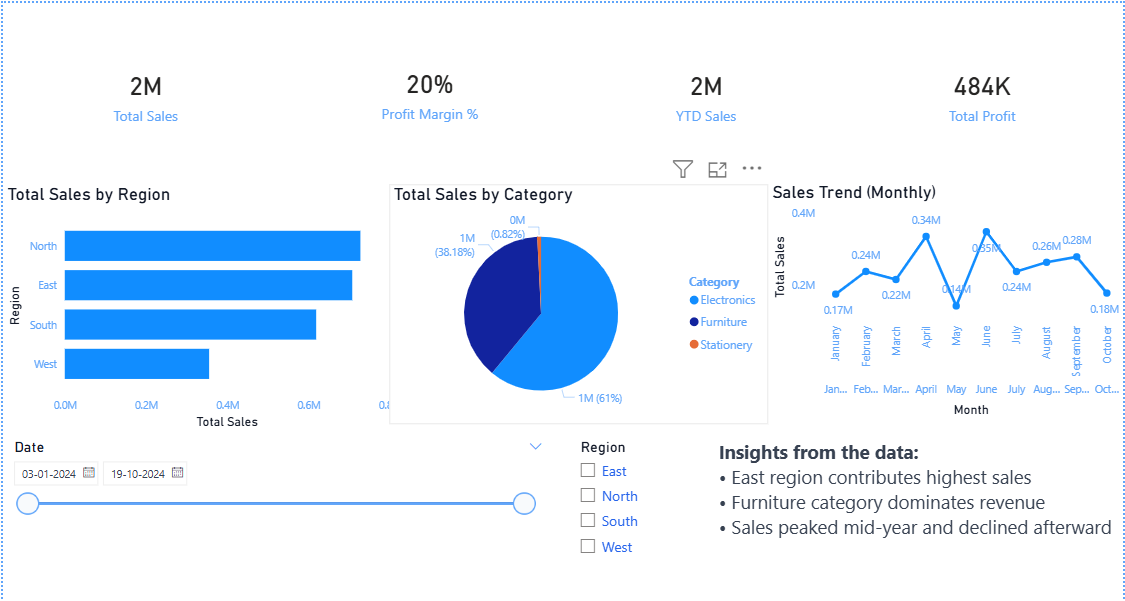

This screenshot's page, from the dashboard's own definition file:
{"tool":"powerbi","page":{"name":"Page 1","canvas":[1280,720],"ordinal":0},"visuals":[{"type":"card","fields":{"Values":["retail_sales_data.Total Sales"]},"box":[0,0,326.5,207.9],"z":0},{"type":"card","fields":{"Values":["retail_sales_data.Total Profit"]},"box":[958.7,0,321.6,207.9],"z":1000},{"type":"card","fields":{"Values":["retail_sales_data.Profit Margin %"]},"box":[326.5,0,321.6,204.2],"z":2000},{"type":"card","fields":{"Values":["retail_sales_data.YTD Sales"]},"box":[648.1,3.7,310.6,200.5],"z":3000},{"type":"clusteredBarChart","title":"Total Sales by Region","fields":{"Category":["retail_sales_data.Region"],"Y":["retail_sales_data.Total Sales"]},"box":[0,207.5,461.2,285],"z":4000},{"type":"lineChart","title":"Sales Trend (Monthly)","fields":{"Category":["retail_sales_data.Date.Variation.Date Hierarchy.Month","retail_sales_data.Date.Variation.Date Hierarchy.Year","retail_sales_data.Date.Variation.Date Hierarchy.Quarter","retail_sales_data.Date.Variation.Date Hierarchy.Month","retail_sales_data.Date.Variation.Date Hierarchy.Day"],"Y":["retail_sales_data.Total Sales"]},"box":[873.8,203.8,406.2,273.8],"z":5000},{"type":"pieChart","fields":{"Category":["retail_sales_data.Category"],"Y":["retail_sales_data.Total Sales"]},"box":[441.2,207.5,432.5,273.8],"z":6000},{"type":"slicer","fields":{"Values":["retail_sales_data.Region"]},"box":[647.5,492.5,138.8,227.5],"z":7000},{"type":"slicer","fields":{"Values":["retail_sales_data.Date"]},"box":[0,492.5,628.8,227.5],"z":8000},{"type":"textbox","box":[812.5,492.5,467.5,173.8],"z":9000}]}

Visuals, with their boxes on the page's 1280x720 design canvas (x1, y1, x2, y2). These are canvas units, not pixel positions in the 1125x601 screenshot, which may show the page scaled, cropped or inside an application window:
card - retail_sales_data.Total Sales: locate(0, 0, 326, 208)
card - retail_sales_data.Total Profit: locate(959, 0, 1280, 208)
card - retail_sales_data.Profit Margin %: locate(326, 0, 648, 204)
card - retail_sales_data.YTD Sales: locate(648, 4, 959, 204)
"Total Sales by Region" clusteredBarChart: locate(0, 208, 461, 492)
"Sales Trend (Monthly)" lineChart: locate(874, 204, 1280, 478)
pieChart - retail_sales_data.Category x retail_sales_data.Total Sales: locate(441, 208, 874, 481)
slicer - retail_sales_data.Region: locate(648, 492, 786, 720)
slicer - retail_sales_data.Date: locate(0, 492, 629, 720)
textbox: locate(812, 492, 1280, 666)
